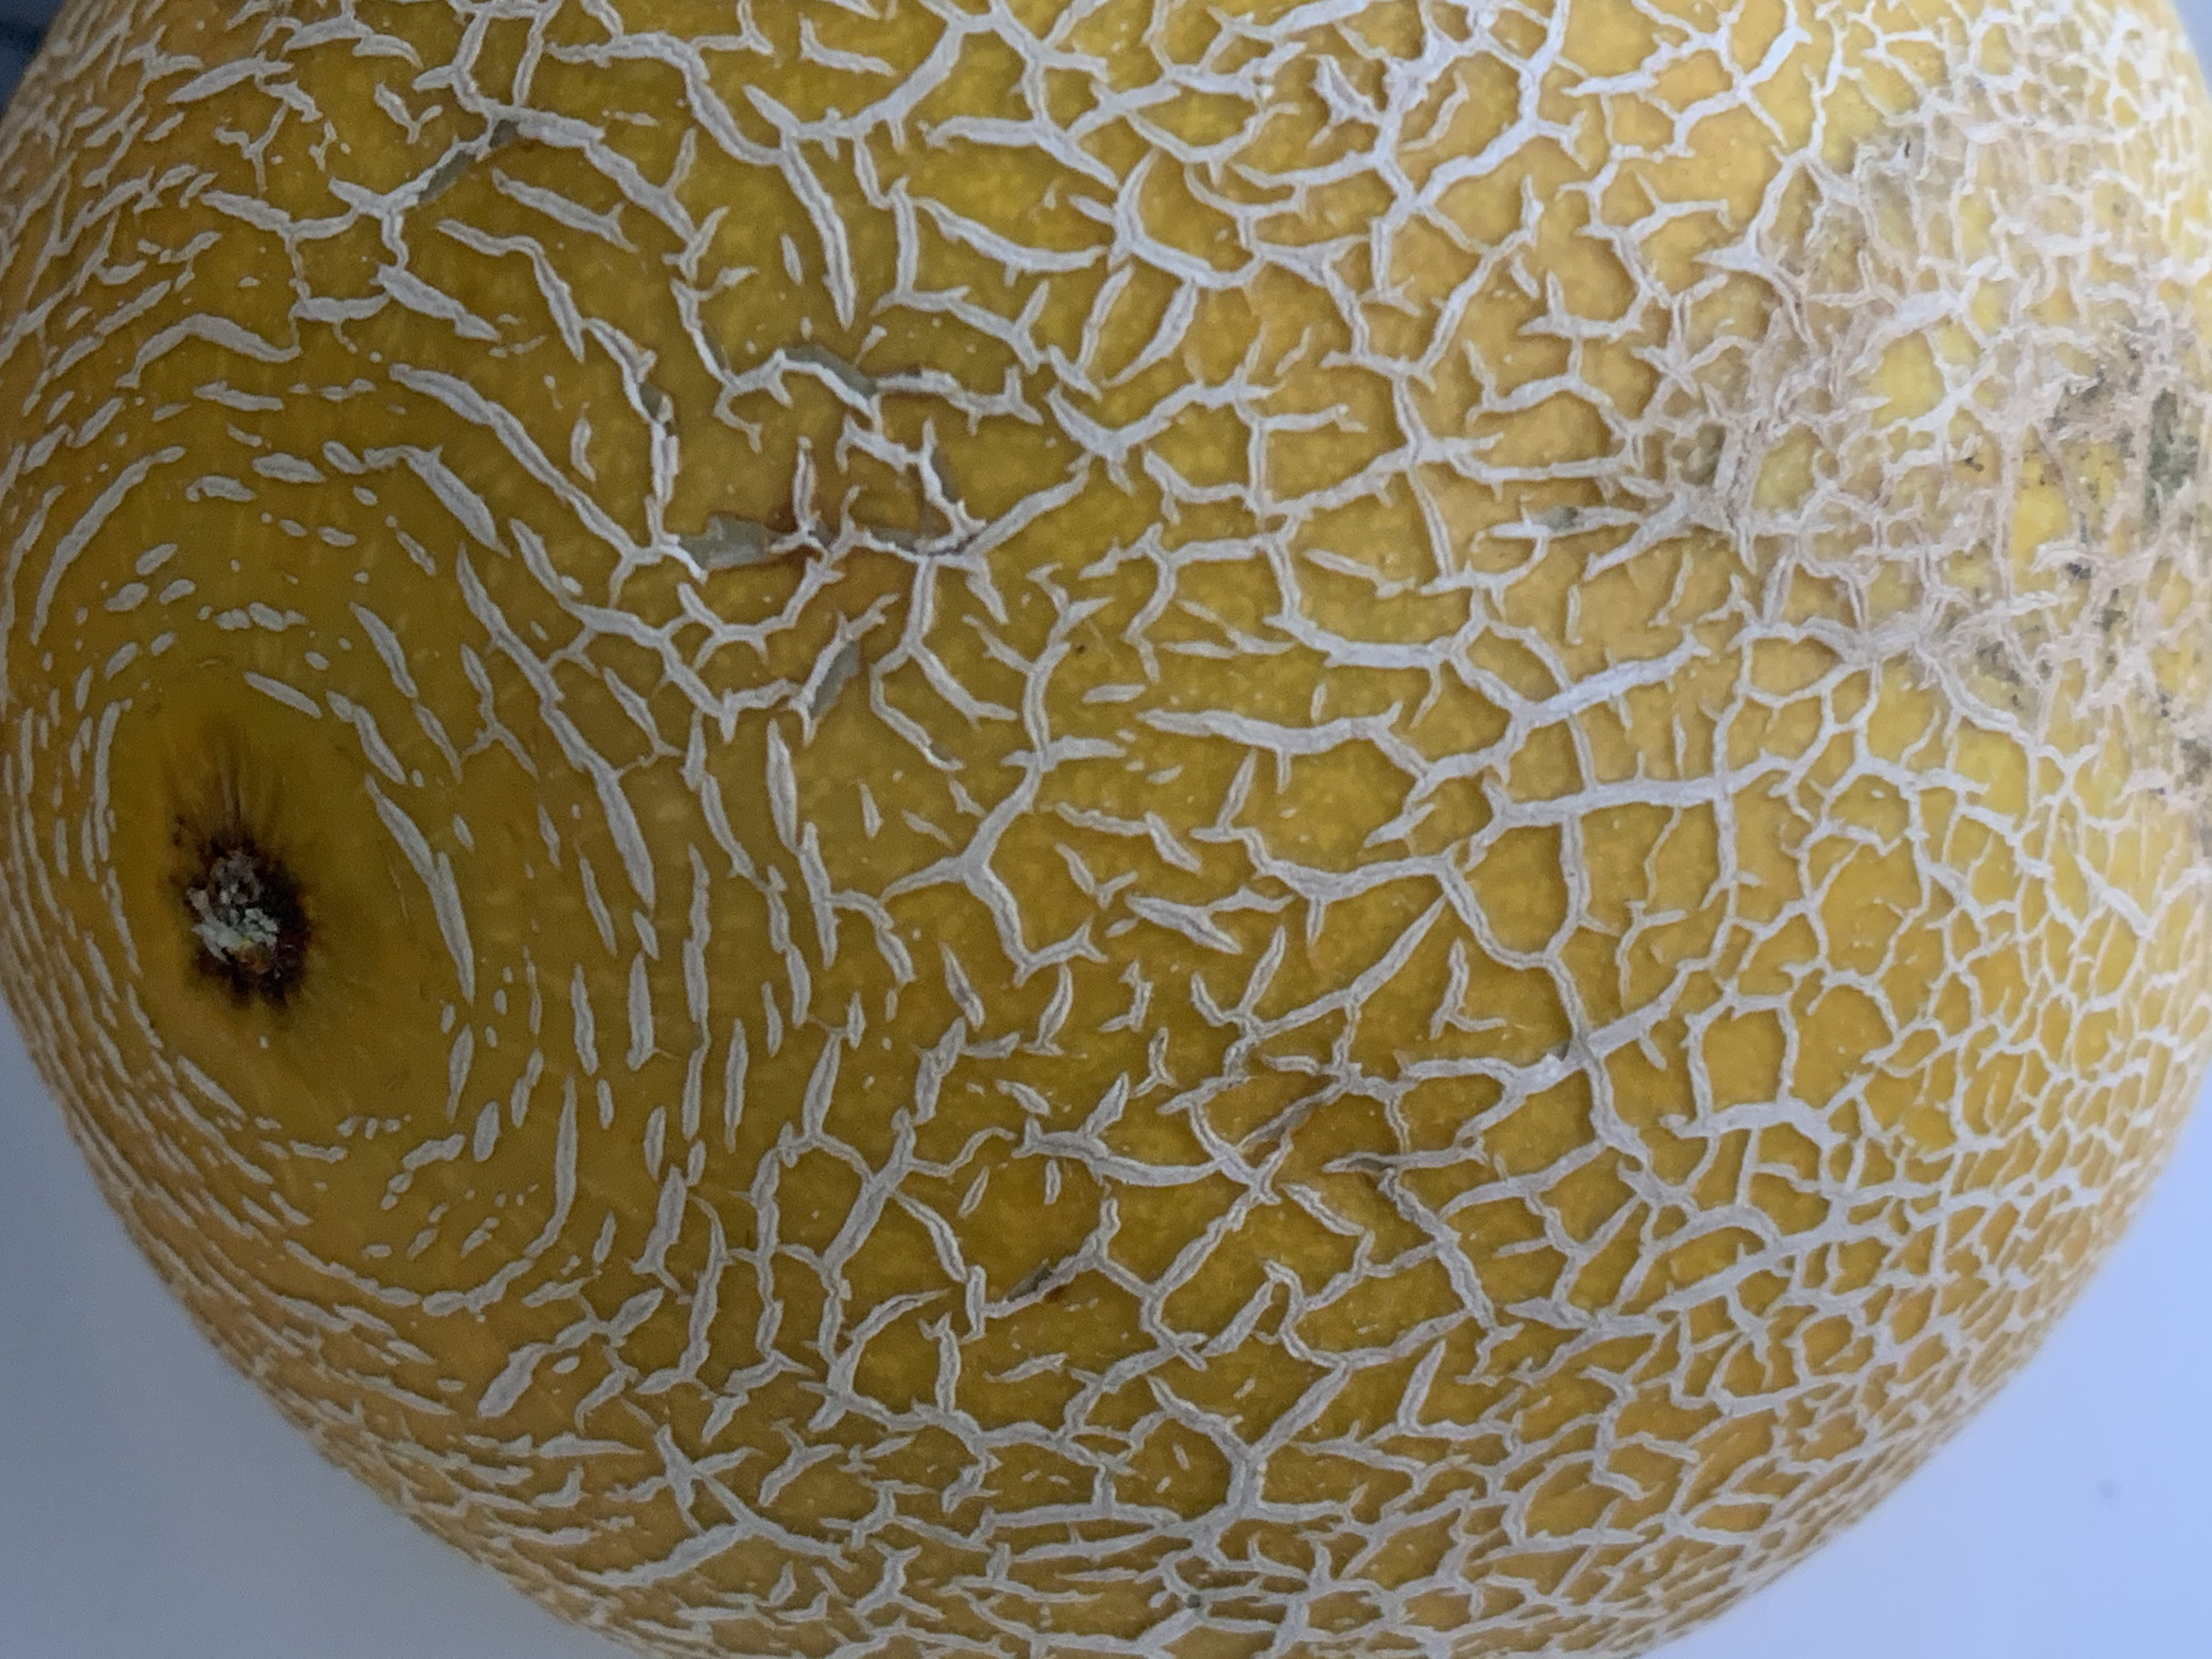galia melon: (0, 14, 2182, 1654)
